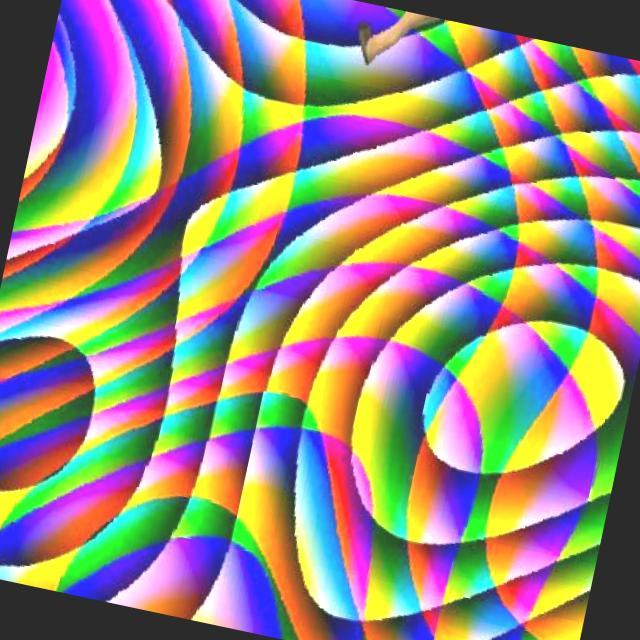Person: (346, 1, 436, 78)
